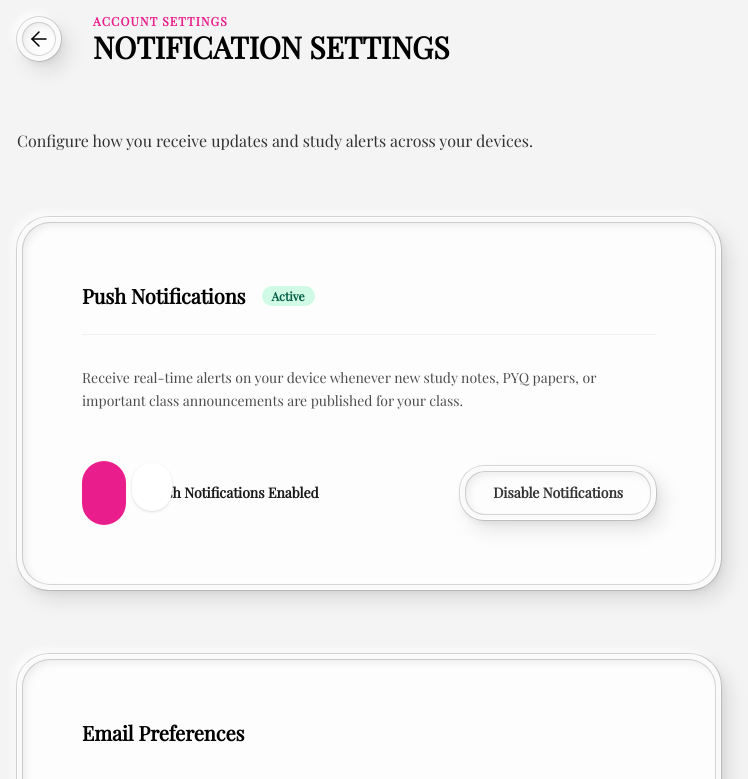
NotificationSettings Component › displays device-specific status feedback when unsubscribe returns localOnly=true
This screenshot has width=748, height=779.
Click the button "Disable Notifications": (558, 492) [460,466,656,520]
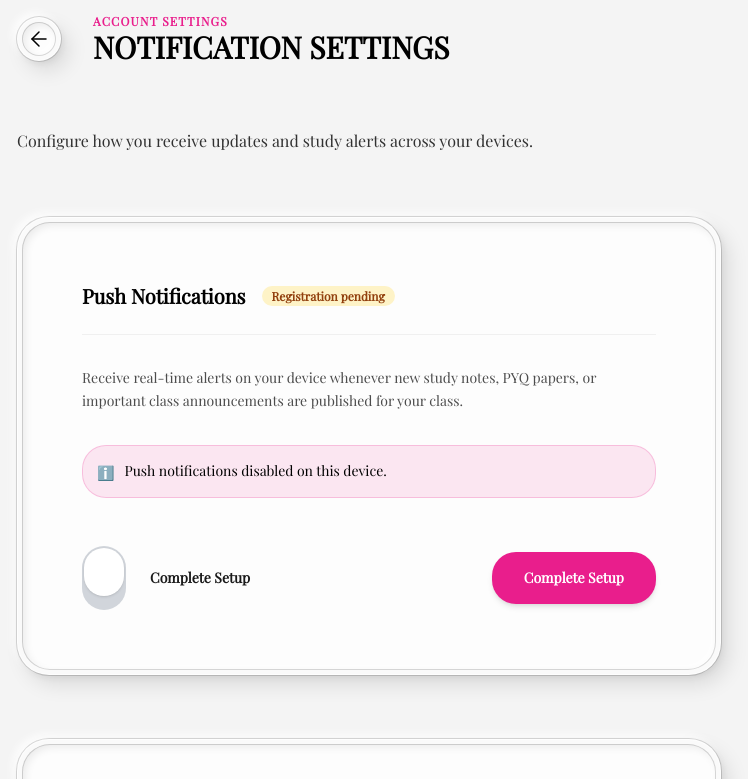
Check: the message "ℹ️ Push notifications disabled on this device." is shown, box [82,444,656,498]
